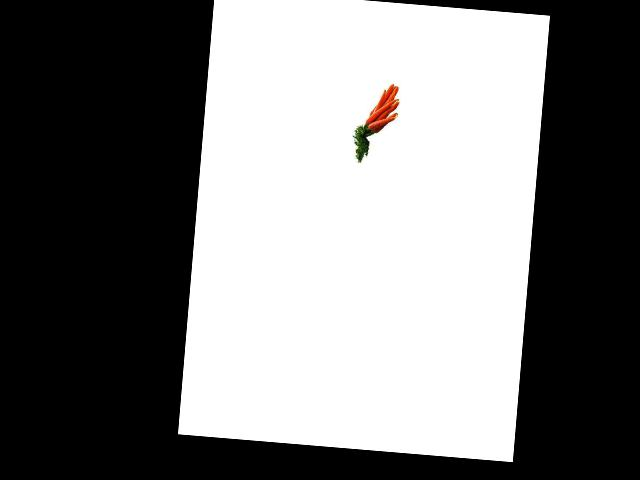carrot: (370, 116, 405, 136)
